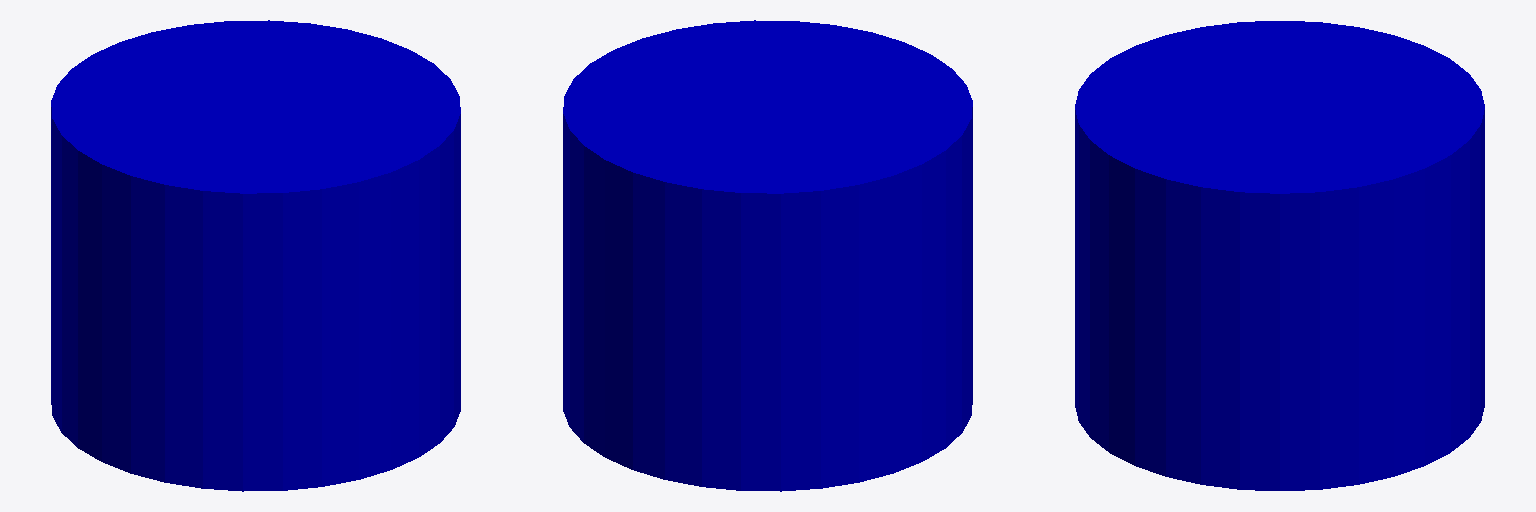
robot.urdf — fetch_arm:
<robot name="fetch_arm">
  <link name="base">
    <inertial>
      <origin rpy="0 0 0" xyz="0 0 0" />
      <mass value="0" />
      <inertia ixx="0" ixy="0.0" ixz="0" iyy="0" iyz="0" izz="0" />
    </inertial>
    <visual>
      <origin rpy="0 0 0" xyz="0 0 0" />
      <geometry>
        <mesh filename="fetch_description/meshes/torso_lift_link_collision.STL" />
      </geometry>
      <material name="">
        <color rgba="1 1 1 1" />
      </material>
    </visual>
  </link>

  <joint name="shoulder_pan_joint" type="revolute">
    <origin rpy="0 0 0" xyz="0 0 0" />
    <parent link="base" />
    <child link="shoulder_pan_link" />
    <axis xyz="0 0 1" />
    <dynamics damping="1.0" />
    <limit effort="33.82" lower="-1.6056" upper="1.6056" velocity="1.256" />
  </joint>

  <link name="shoulder_pan_link">
    <inertial>
      <origin rpy="0 0 0" xyz="0.0927 -0.0056 0.0564" />
      <mass value="2.5587" />
      <inertia ixx="0.0043" ixy="-0.0001" ixz="0.001" iyy="0.0087" iyz="-0.0001" izz="0.0087" />
    </inertial>
    <visual>
      <origin rpy="0 0 0" xyz="0 0 0" />
      <geometry>
        <mesh filename="fetch_description/meshes/shoulder_pan_link_collision.STL" />
      </geometry>
      <material name="">
        <color rgba="1 1 1 1" />
      </material>
    </visual>
  </link>

  <joint name="shoulder_lift_joint" type="revolute">
    <origin rpy="0 0 0" xyz="0.117 0 0.0599999999999999" />
    <parent link="shoulder_pan_link" />
    <child link="shoulder_lift_link" />
    <axis xyz="0 1 0" />
    <dynamics damping="1.0" />
    <limit effort="131.76" lower="-1.221" upper="1.518" velocity="1.454" />
  </joint>

  <link name="shoulder_lift_link">
    <inertial>
      <origin rpy="0 0 0" xyz="0.1432 0.0072 -0.0001" />
      <mass value="2.6615" />
      <inertia ixx="0.0028" ixy="-0.0021" ixz="-0.0" iyy="0.0111" iyz="-0.0" izz="0.0112" />
    </inertial>
    <visual>
      <origin rpy="0 0 0" xyz="0 0 0" />
      <geometry>
        <mesh filename="fetch_description/meshes/shoulder_lift_link_collision.STL" />
      </geometry>
      <material name="">
        <color rgba="0.086 0.506 0.767 1" />
      </material>
    </visual>
  </link>

  <joint name="upperarm_roll_joint" type="continuous">
    <origin rpy="0 0 0" xyz="0.219 0 0" />
    <parent link="shoulder_lift_link" />
    <child link="upperarm_roll_link" />
    <axis xyz="1 0 0" />
    <dynamics damping="5.0" />
    <limit effort="76.94" velocity="1.571" />
  </joint>

  <link name="upperarm_roll_link">
    <inertial>
      <origin rpy="0 0 0" xyz="0.1165 0.0014 0.0000" />
      <mass value="2.3311" />
      <inertia ixx="0.0019" ixy="-0.0001" ixz="0.0" iyy="0.0045" iyz="0.0" izz="0.0047" />
    </inertial>
    <visual>
      <origin rpy="0 0 0" xyz="0 0 0" />
      <geometry>
        <mesh filename="fetch_description/meshes/upperarm_roll_link_collision.STL" />
      </geometry>
      <material name="">
        <color rgba="1 1 1 1" />
      </material>
    </visual>
  </link>
  <joint name="elbow_flex_joint" type="revolute">
    <origin rpy="0 0 0" xyz="0.133 0 0" />
    <parent link="upperarm_roll_link" />
    <child link="elbow_flex_link" />
    <axis xyz="0 1 0" />
    <dynamics damping="1.0" />
    <limit effort="66.18" lower="-2.251" upper="2.251" velocity="1.521" />
  </joint>
  <link name="elbow_flex_link">
    <inertial>
      <origin rpy="0 0 0" xyz="0.1279 0.0073 0.0000" />
      <mass value="2.1299" />
      <inertia ixx="0.0024" ixy="-0.0016" ixz="0.0" iyy="0.0082" iyz="-0.0" izz="0.0084" />
    </inertial>
    <visual>
      <origin rpy="0 0 0" xyz="0 0 0" />
      <geometry>
        <mesh filename="fetch_description/meshes/elbow_flex_link_collision.STL" />
      </geometry>
      <material name="">
        <color rgba="0.086 0.506 0.767 1" />
      </material>
    </visual>
  </link>
  <joint name="forearm_roll_joint" type="continuous">
    <origin rpy="0 0 0" xyz="0.197 0 0" />
    <parent link="elbow_flex_link" />
    <child link="forearm_roll_link" />
    <axis xyz="1 0 0" />
    <dynamics damping="5.0" />
    <limit effort="29.35" velocity="1.571" />
  </joint>
  <link name="forearm_roll_link">
    <inertial>
      <origin rpy="0 0 0" xyz="0.1097 -0.0266 0.0000" />
      <mass value="1.6563" />
      <inertia ixx="0.0016" ixy="-0.0003" ixz="0.0" iyy="0.003" iyz="-0.0" izz="0.0035" />
    </inertial>
    <visual>
      <origin rpy="0 0 0" xyz="0 0 0" />
      <geometry>
        <mesh filename="fetch_description/meshes/forearm_roll_link_collision.STL" />
      </geometry>
      <material name="">
        <color rgba="1 1 1 1" />
      </material>
    </visual>
  </link>
  <joint name="wrist_flex_joint" type="revolute">
    <origin rpy="0 0 0" xyz="0.1245 0 0" />
    <parent link="forearm_roll_link" />
    <child link="wrist_flex_link" />
    <axis xyz="0 1 0" />
    <dynamics damping="1.0" />
    <limit effort="25.7" lower="-2.16" upper="2.16" velocity="2.268" />
  </joint>
  <link name="wrist_flex_link">
    <inertial>
      <origin rpy="0 0 0" xyz="0.0882 0.0009 -0.0001" />
      <mass value="1.725" />
      <inertia ixx="0.0018" ixy="-0.0001" ixz="-0.0" iyy="0.0042" iyz="0.0" izz="0.0042" />
    </inertial>
    <visual>
      <origin rpy="0 0 0" xyz="0 0 0" />
      <geometry>
        <mesh filename="fetch_description/meshes/wrist_flex_link_collision.STL" />
      </geometry>
      <material name="">
        <color rgba="0.086 0.506 0.767 1" />
      </material>
    </visual>
  </link>


  <joint name="wrist_roll_joint" type="fixed">
    <origin rpy="0 0 0" xyz="0.1385 0 0" />
    <parent link="wrist_flex_link" />
    <child link="wrist_roll_link" />
  </joint>
  <link name="wrist_roll_link">
    <inertial>
      <origin rpy="0 0 0" xyz="0.0095 0.0004 -0.0002" />
      <mass value="0.1354" />
      <inertia ixx="0.0001" ixy="0.0" ixz="0.0" iyy="0.0001" iyz="0.0" izz="0.0001" />
    </inertial>
    <visual>
      <origin rpy="0 0 0" xyz="0 0 0" />
      <geometry>
        <mesh filename="fetch_description/meshes/wrist_roll_link_collision.STL" />
      </geometry>
      <material name="">
        <color rgba="1 1 1 1" />
      </material>
    </visual>
  </link>
  <joint name="gripper_axis" type="fixed">
    <origin rpy="0 0 0" xyz="0.16645 0 0" />
    <parent link="wrist_roll_link" />
    <child link="gripper_link" />
  </joint>
  <link name="gripper_link">
    <inertial>
      <origin rpy="0 0 0" xyz="-0.0900 -0.0001 -0.0017" />
      <mass value="1.5175" />
      <inertia ixx="0.0013" ixy="-0.0" ixz="0.0" iyy="0.0019" iyz="-0.0" izz="0.0024" />
    </inertial>
    <visual>
      <origin rpy="0 0 0" xyz="0 0 0" />
      <geometry>
        <mesh filename="fetch_description/meshes/gripper_link_collision.STL" />
      </geometry>
    </visual>
  </link>

  <joint name="r_gripper_finger_joint" type="prismatic">
    <origin rpy="0 0 0" xyz="0 0.015425 0" />
    <parent link="gripper_link" />
    <child link="r_gripper_finger_link" />
    <axis xyz="0 1 0" />
    <limit effort="60" lower="0.0" upper="0.05" velocity="0.05" /><dynamics damping="100.0" />
  </joint>

  <link name="r_gripper_finger_link">
    <inertial>
      <origin rpy="0 0 0" xyz="-0.01 0 0" />
      <mass value="0.0798" />
      <inertia ixx="0.002" ixy="0" ixz="0" iyy="0" iyz="0" izz="0" />
    </inertial>
    <visual>
      <origin rpy="0 0 0" xyz="0 0.101425 0" />
      <geometry>
        <mesh filename="fetch_description/meshes/r_gripper_finger_link.STL" />
      </geometry>
      <material name="">
        <color rgba="0.356 0.361 0.376 1" />
      </material>
    </visual>
  </link>

  <joint name="l_gripper_finger_joint" type="prismatic">
    <origin rpy="0 0 0" xyz="0 -0.015425 0" />
    <parent link="gripper_link" />
    <child link="l_gripper_finger_link" />
    <axis xyz="0 -1 0" />
    <limit effort="60" lower="0.0" upper="0.05" velocity="0.05" /><dynamics damping="100.0" />
  </joint>

  <link name="l_gripper_finger_link">
    <inertial>
      <origin rpy="0 0 0" xyz="-0.01 0 0" />
      <mass value="0.0798" />
      <inertia ixx="0.002" ixy="0" ixz="0" iyy="0" iyz="0" izz="0" />
    </inertial>
    <visual>
      <origin rpy="0 0 0" xyz="0 -0.101425 0" />
      <geometry>
        <mesh filename="fetch_description/meshes/l_gripper_finger_link.STL" />
      </geometry>
      <material name="">
        <color rgba="0.356 0.361 0.376 1" />
      </material>
    </visual>
  </link>


  <joint name="ee_joint" type="fixed">
    <origin rpy="0 0 0" xyz="0.5 0 0" />
    <parent link="l_gripper_finger_link" />
    <child link="ee_link" />
  </joint>

  <link name="ee_link">
    <inertial>
      <origin rpy="0 0 0" xyz="0 0 0" />
      <mass value="5" />
      <inertia ixx="0" ixy="0" ixz="0" iyy="0" iyz="0" izz="0" />
    </inertial>
    <visual>
      <origin rpy="0 0 0" xyz="1 0 0" />
      <geometry>
        <cylinder length="16" radius="10"/>
      </geometry>
      <material name="blue">
        <color rgba="0 0 0.8 1"/>
      </material>
    </visual>
  </link>

</robot>

--- What the picture shows (computed from the rendered views, not written in the file) ---
The picture shows the robot from 3 angles, left to right: view 1: azimuth 30°, elevation 25°; view 2: azimuth 150°, elevation 25°; view 3: azimuth 270°, elevation 25°; orthographic projection.
Robot: fetch_arm — 12 links, 11 joints (4 revolute, 2 continuous, 2 prismatic, 3 fixed); root link base; default pose: all joints at 0.
Visible links, largest first — view 1: ee_link; view 2: ee_link; view 3: ee_link.
Link boxes in pixels (x1,y1,x2,y2): ee_link: [51, 20, 460, 491]; ee_link: [563, 20, 972, 491]; ee_link: [1075, 21, 1484, 490].
Size in the robot's own frame: 20 by 20 by 16 metres.
0 mesh visuals loaded from 11 distinct referenced files (none loaded); not drawn: 11 (reference not matched to a file when rendering).